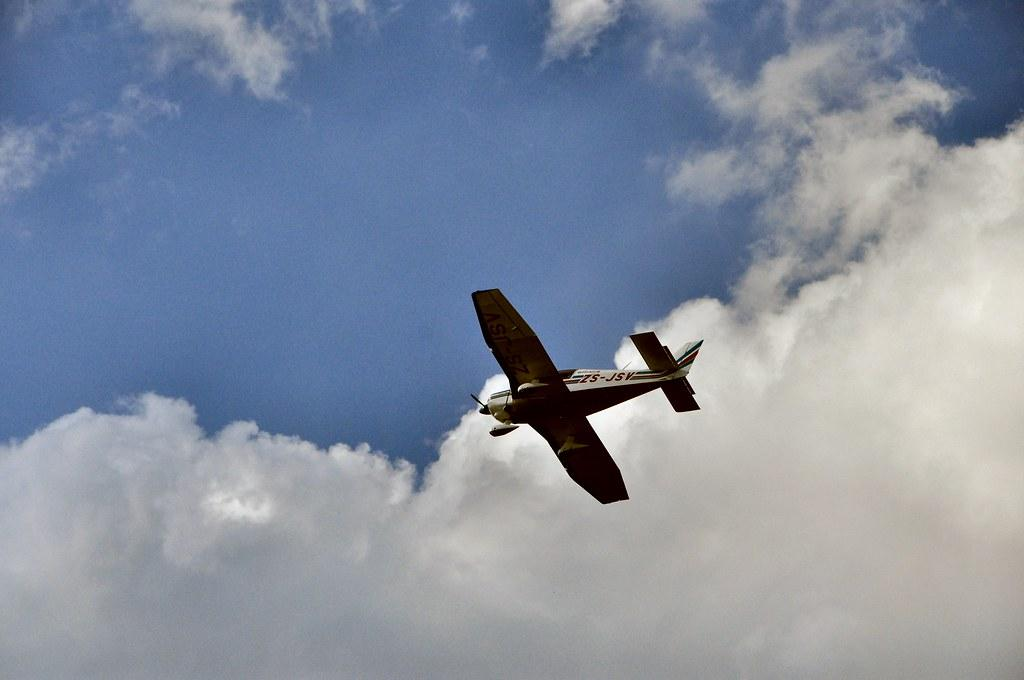plane: (469, 288, 705, 505)
